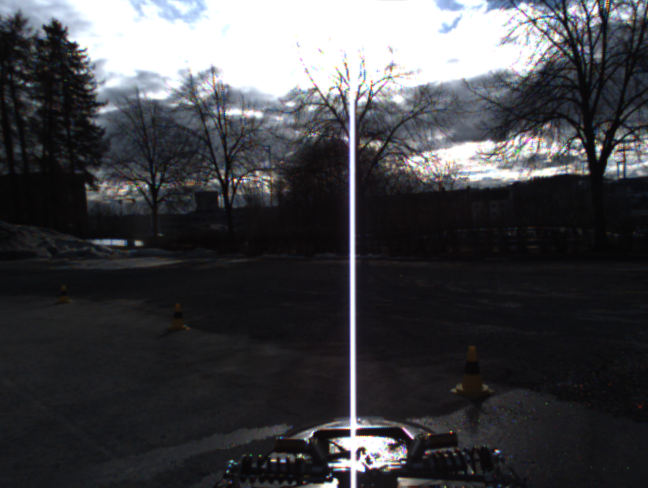cone-small-yellow: (450, 345, 494, 396), (167, 303, 189, 331), (55, 285, 71, 304)
